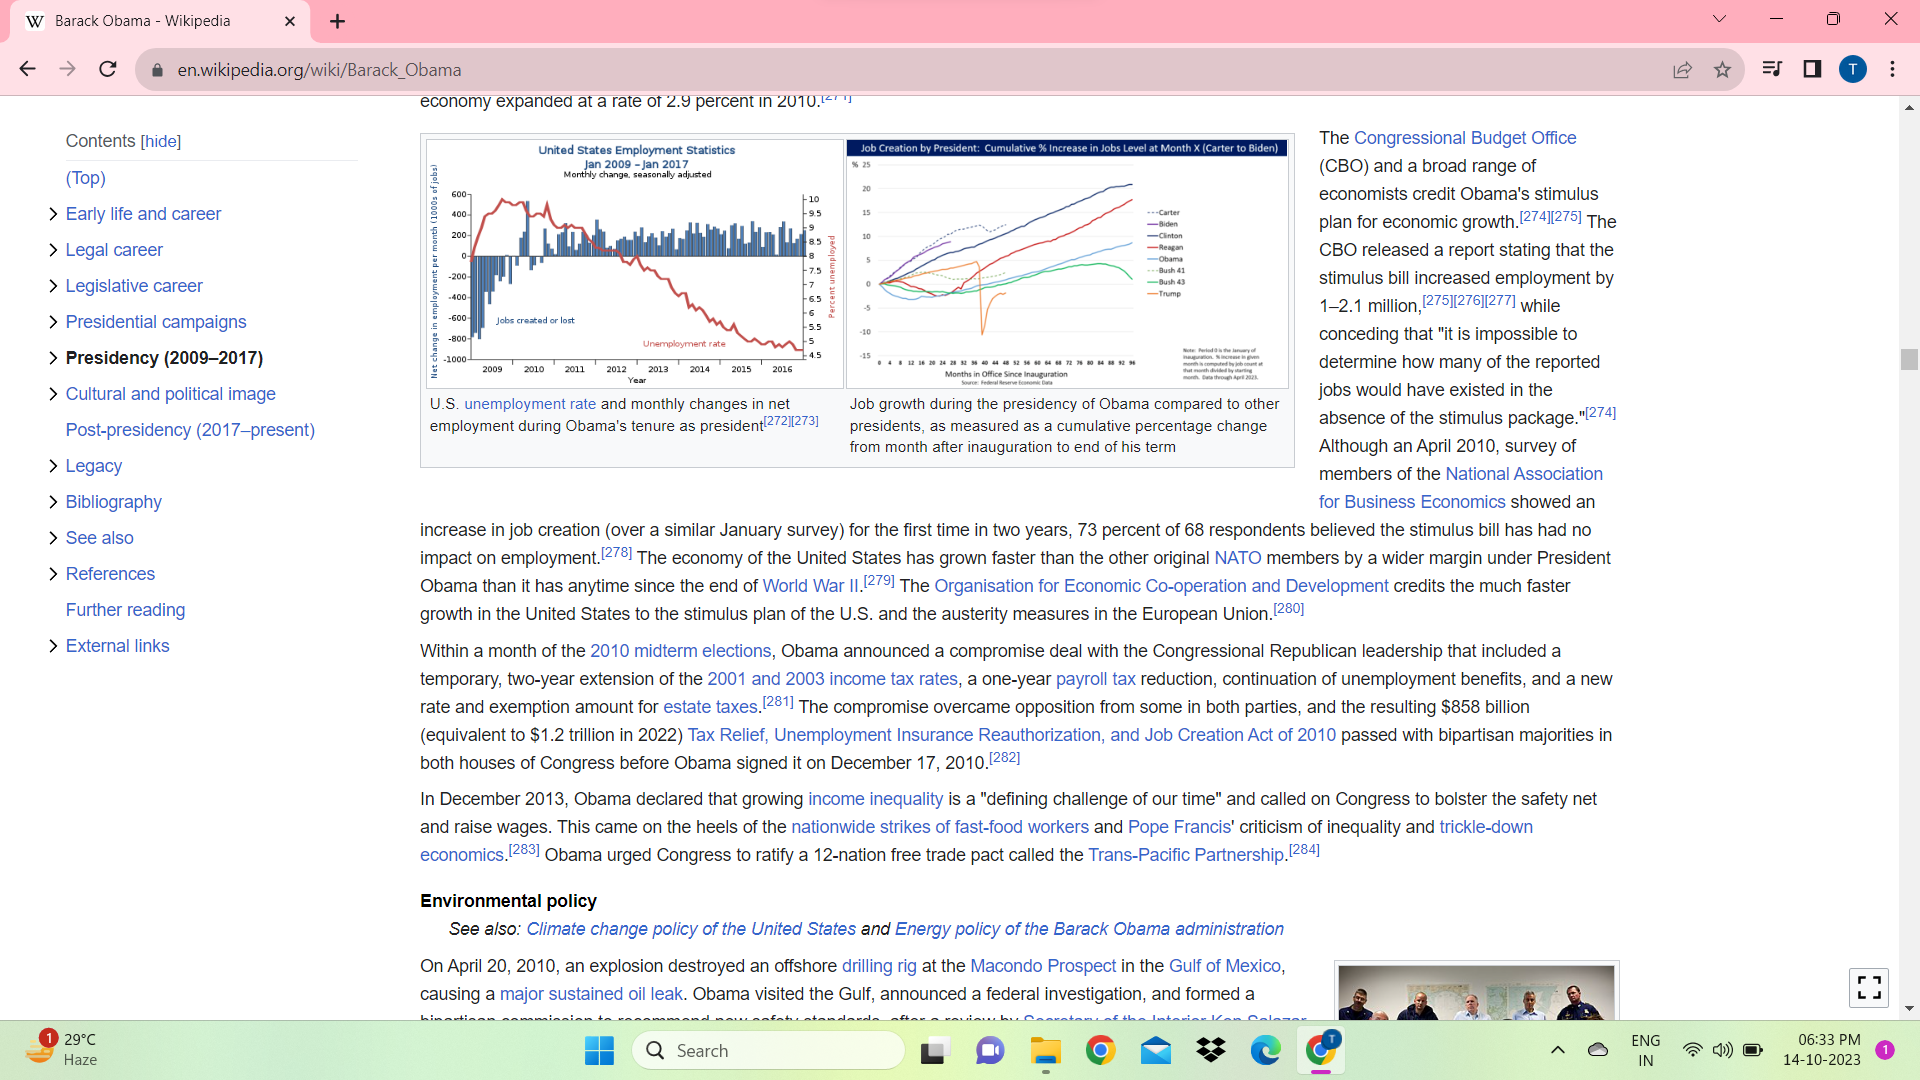Image: (837, 128, 1296, 393), (407, 121, 835, 384)
Paragraph: (394, 505, 1638, 869), (1309, 119, 1655, 512), (438, 919, 1283, 1018), (61, 418, 322, 444), (58, 272, 223, 305), (67, 382, 274, 407), (62, 311, 248, 335), (65, 347, 269, 367), (65, 203, 223, 228), (57, 125, 190, 153), (411, 885, 607, 903), (62, 237, 170, 264), (65, 634, 170, 658), (65, 489, 166, 513), (61, 601, 187, 620), (61, 566, 170, 583), (67, 525, 136, 546), (57, 166, 115, 190), (65, 455, 132, 475)
